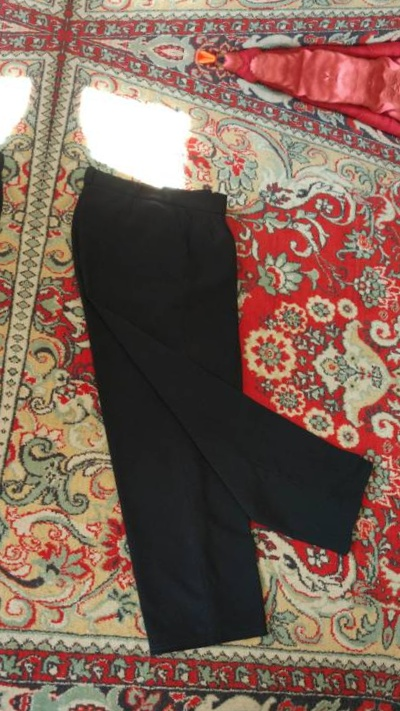Pants: (9, 115, 400, 691), (0, 54, 15, 630), (114, 0, 400, 17)
